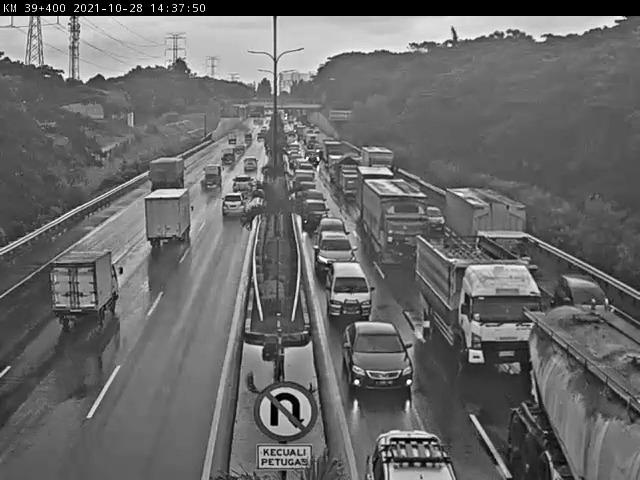big truck: (510, 294, 640, 480), (410, 229, 542, 375), (442, 180, 545, 267), (357, 174, 450, 267), (133, 137, 197, 204), (140, 186, 198, 252), (334, 158, 366, 203)
car: (343, 321, 432, 406), (366, 414, 470, 480), (549, 266, 627, 329), (312, 228, 358, 271), (217, 191, 258, 223), (318, 209, 345, 244), (304, 199, 333, 229), (214, 150, 241, 172), (232, 172, 258, 194), (300, 187, 328, 205), (296, 181, 319, 198), (245, 155, 264, 172)
small bus: (327, 264, 386, 319)
small truck: (43, 240, 124, 326), (202, 163, 231, 199)
